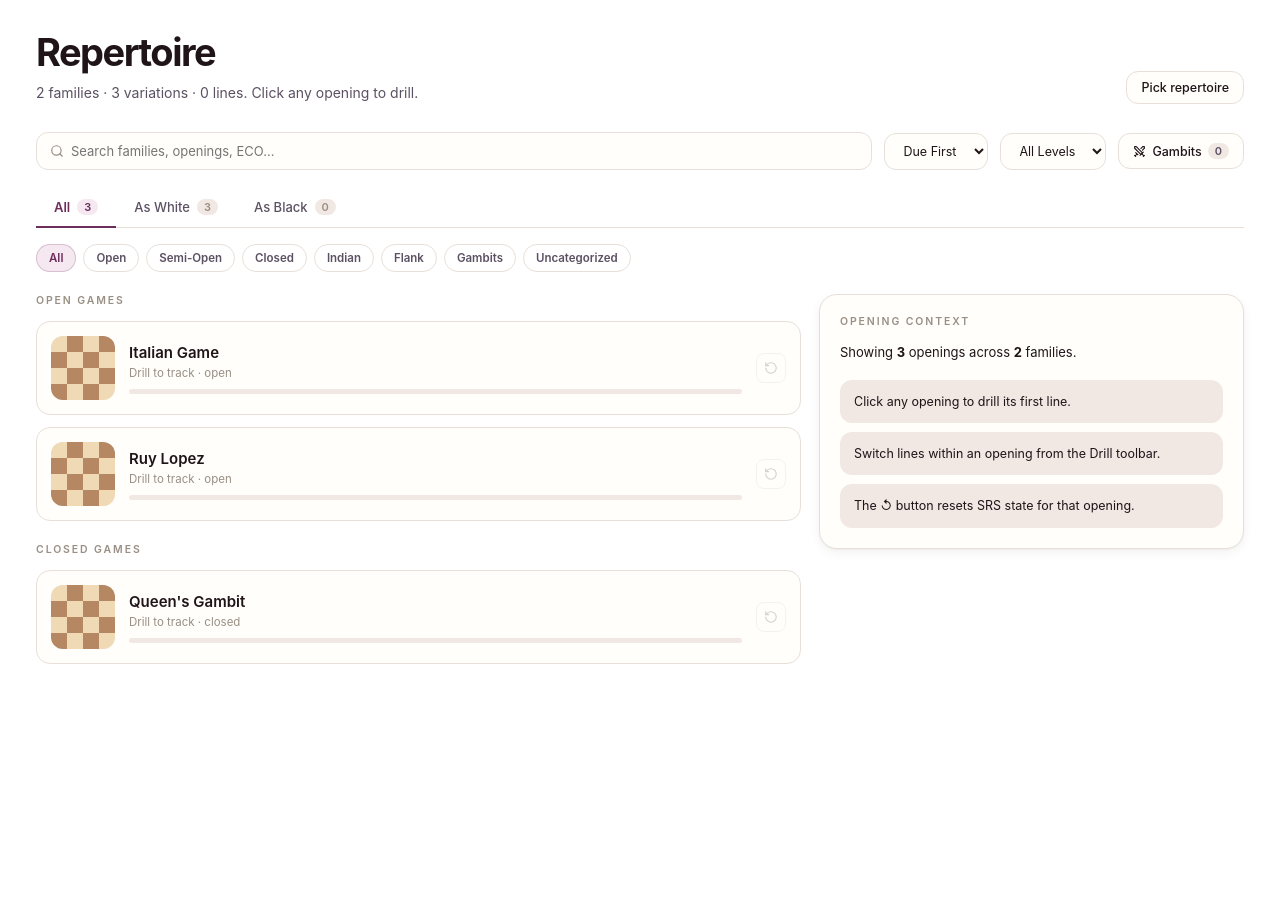
Test: RepertoirePage › category chip filters family list
The width and height of the screenshot is (1280, 900).
Expected: the text "Open Games" is shown, top-left (36, 294), bottom-right (125, 307)
Click the button "Closed" at [274, 258], box top-left (242, 244), bottom-right (307, 272)
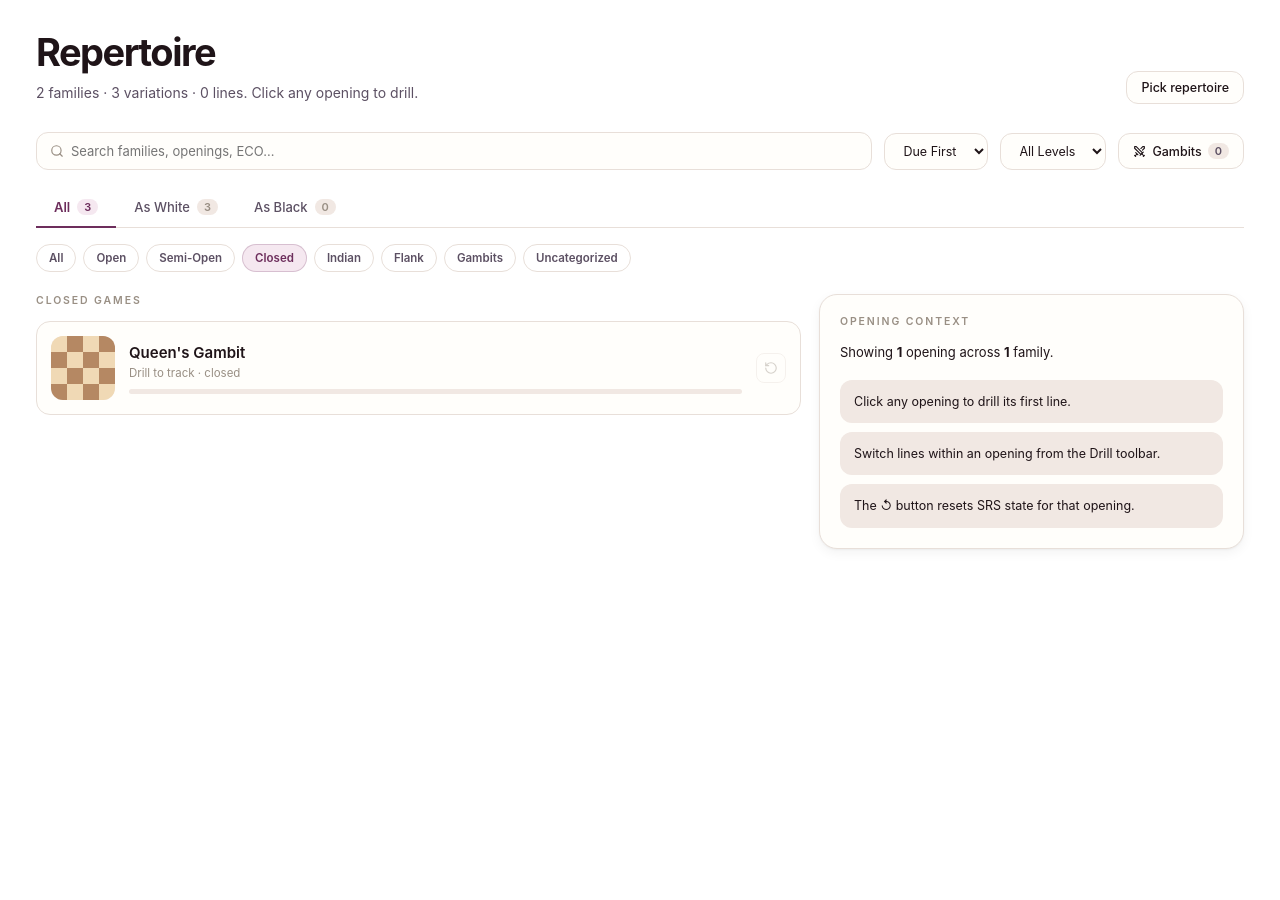
Expected: the text "Closed Games" is shown, top-left (36, 294), bottom-right (142, 307)
Now the text "Open Games" is gone
